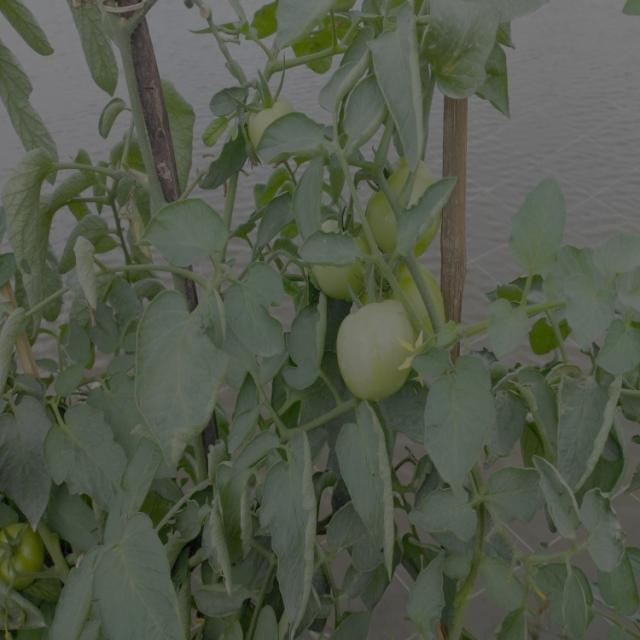tomato: (343, 304, 408, 401), (368, 168, 442, 250), (402, 261, 447, 346), (2, 529, 44, 580), (318, 266, 369, 303), (249, 100, 285, 148)
